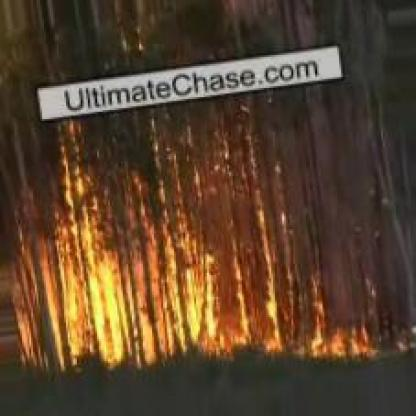fire: (8, 130, 388, 368)
